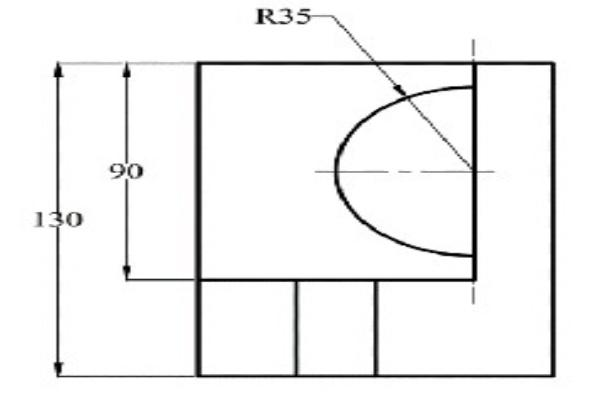dimensions: (252, 0, 318, 30), (26, 203, 92, 233), (108, 157, 152, 182)
